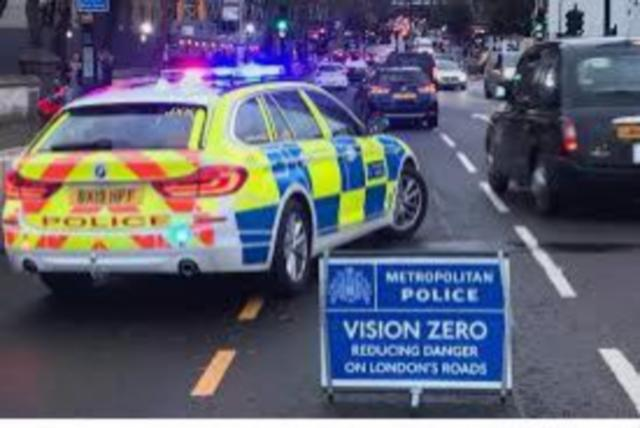police: (0, 58, 433, 289)
